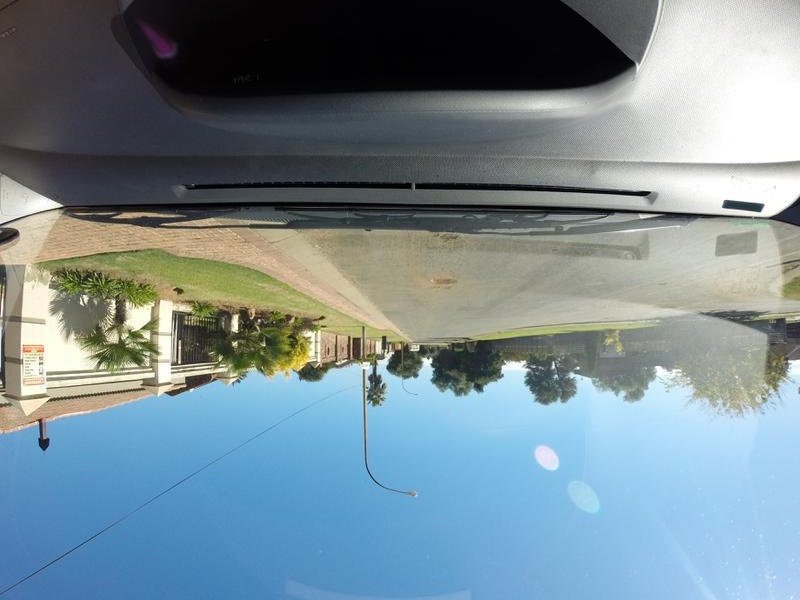pothole: (430, 277, 461, 291), (439, 236, 462, 244)
